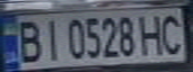0: (63, 15, 84, 60)
2: (100, 12, 121, 60)
5: (81, 13, 103, 60)
8: (115, 12, 139, 57)
B: (12, 16, 45, 63)
C: (157, 11, 187, 55)
H: (136, 11, 169, 56)
I: (36, 16, 63, 62)
